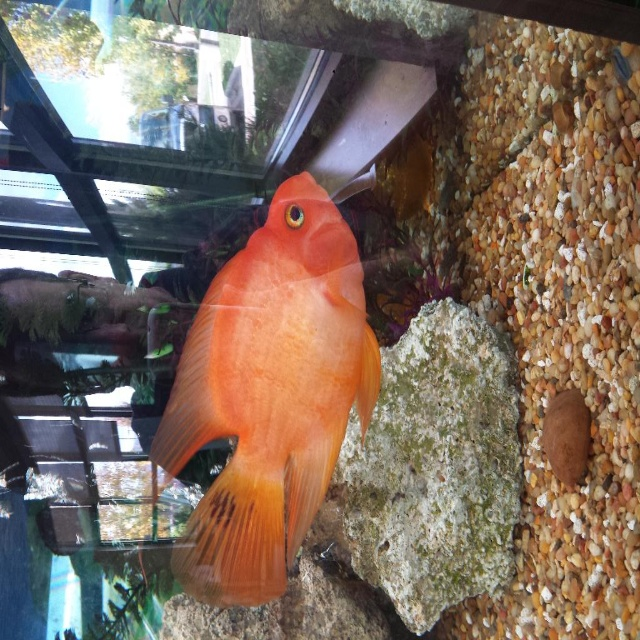Goldfish: (141, 164, 379, 608)
